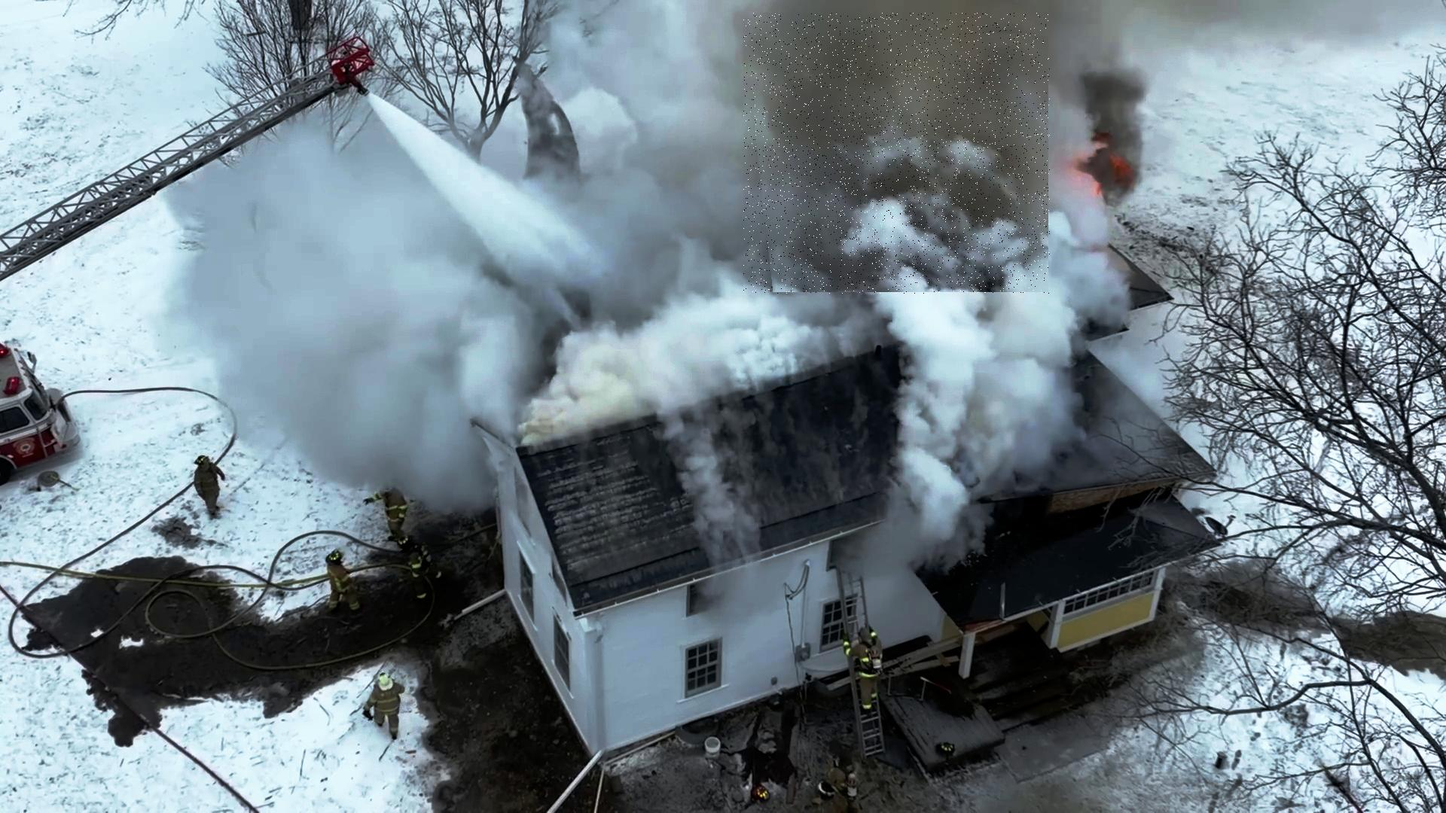smoke: (744, 13, 1051, 294)
